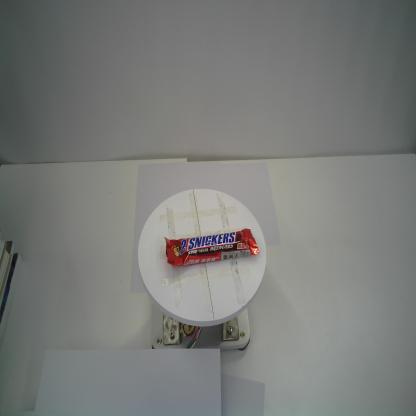Chocolate: (164, 228, 260, 267)
